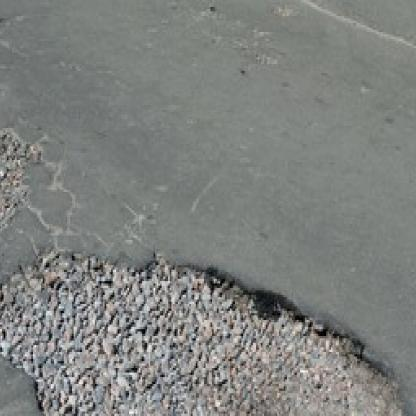pothole: (0, 252, 414, 416), (0, 128, 41, 249)
